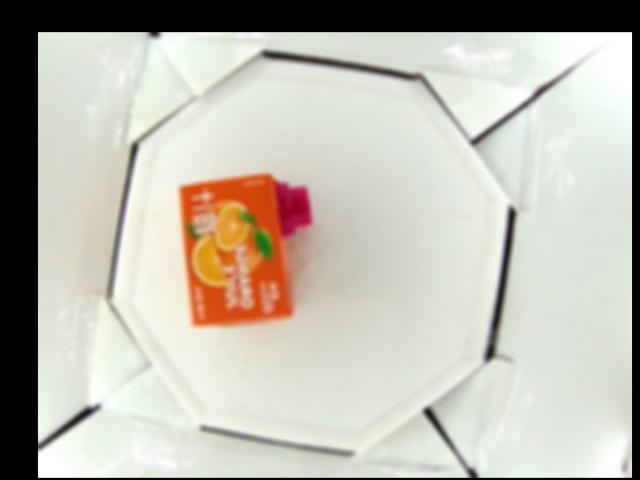Bottle: (178, 175, 313, 327)
